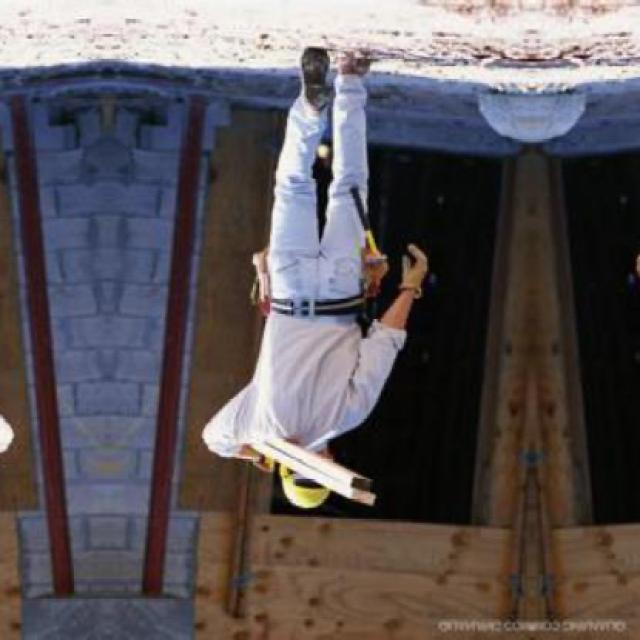con casco: (249, 422, 380, 510)
